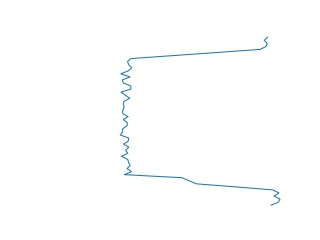distributaryChannelFill: (116, 38, 285, 207)
